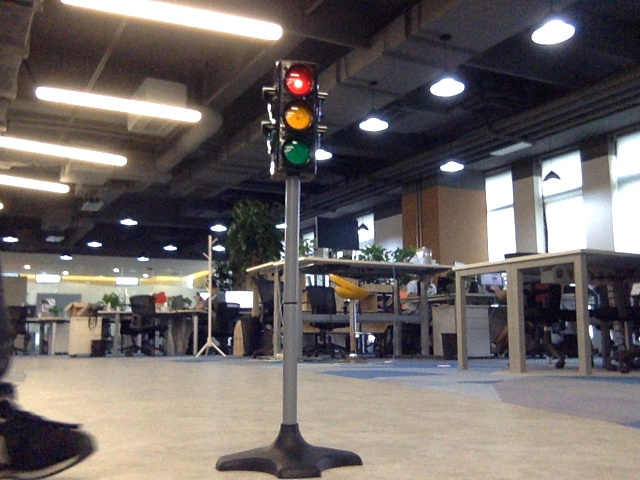red: (278, 67, 316, 168)
